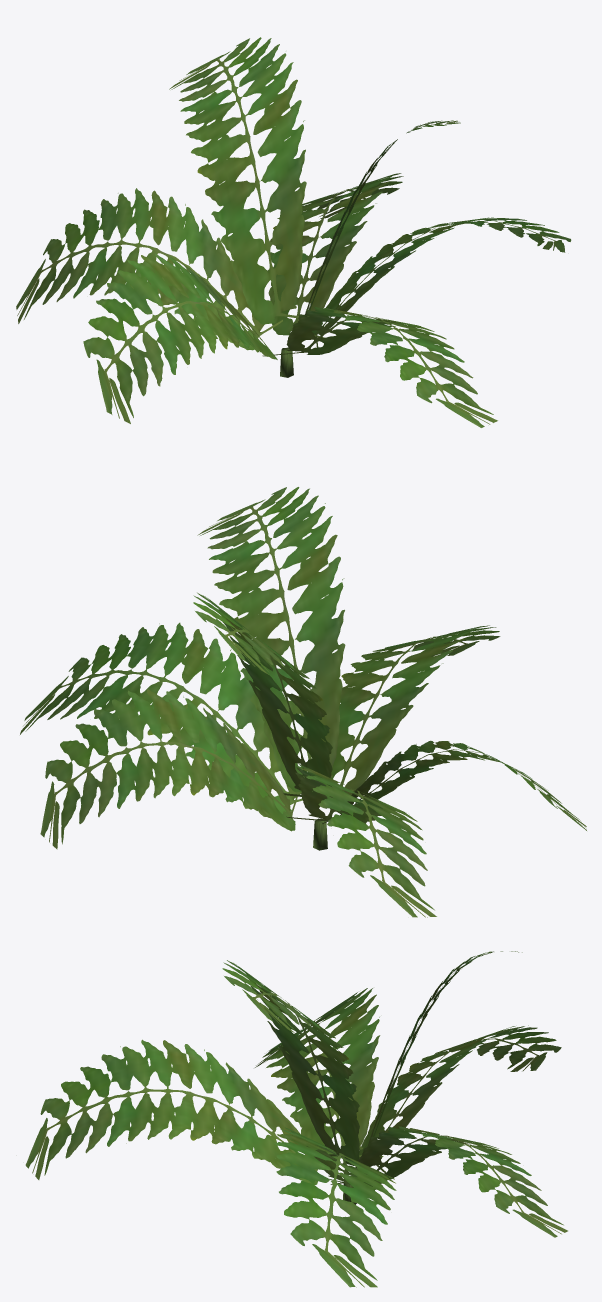
Rendered from Kerala_Fern.glb.
3 views of the same model, one above another, from view 1: azimuth 30°, elevation 25°; view 2: azimuth 150°, elevation 25°; view 3: azimuth 270°, elevation 25° (orthographic). The views are drawn at different scales.
Parts seen in each view (by area): view 1: Kerala_Fern; view 2: Kerala_Fern; view 3: Kerala_Fern.
Boxes of the visible parts, bbox=[...] form: Kerala_Fern: bbox=[16, 37, 571, 427]; Kerala_Fern: bbox=[20, 487, 586, 917]; Kerala_Fern: bbox=[25, 951, 567, 1287].
Size of the model in its own units: 1.07 by 0.5699 by 1.02.
1 material, 1 textured.
